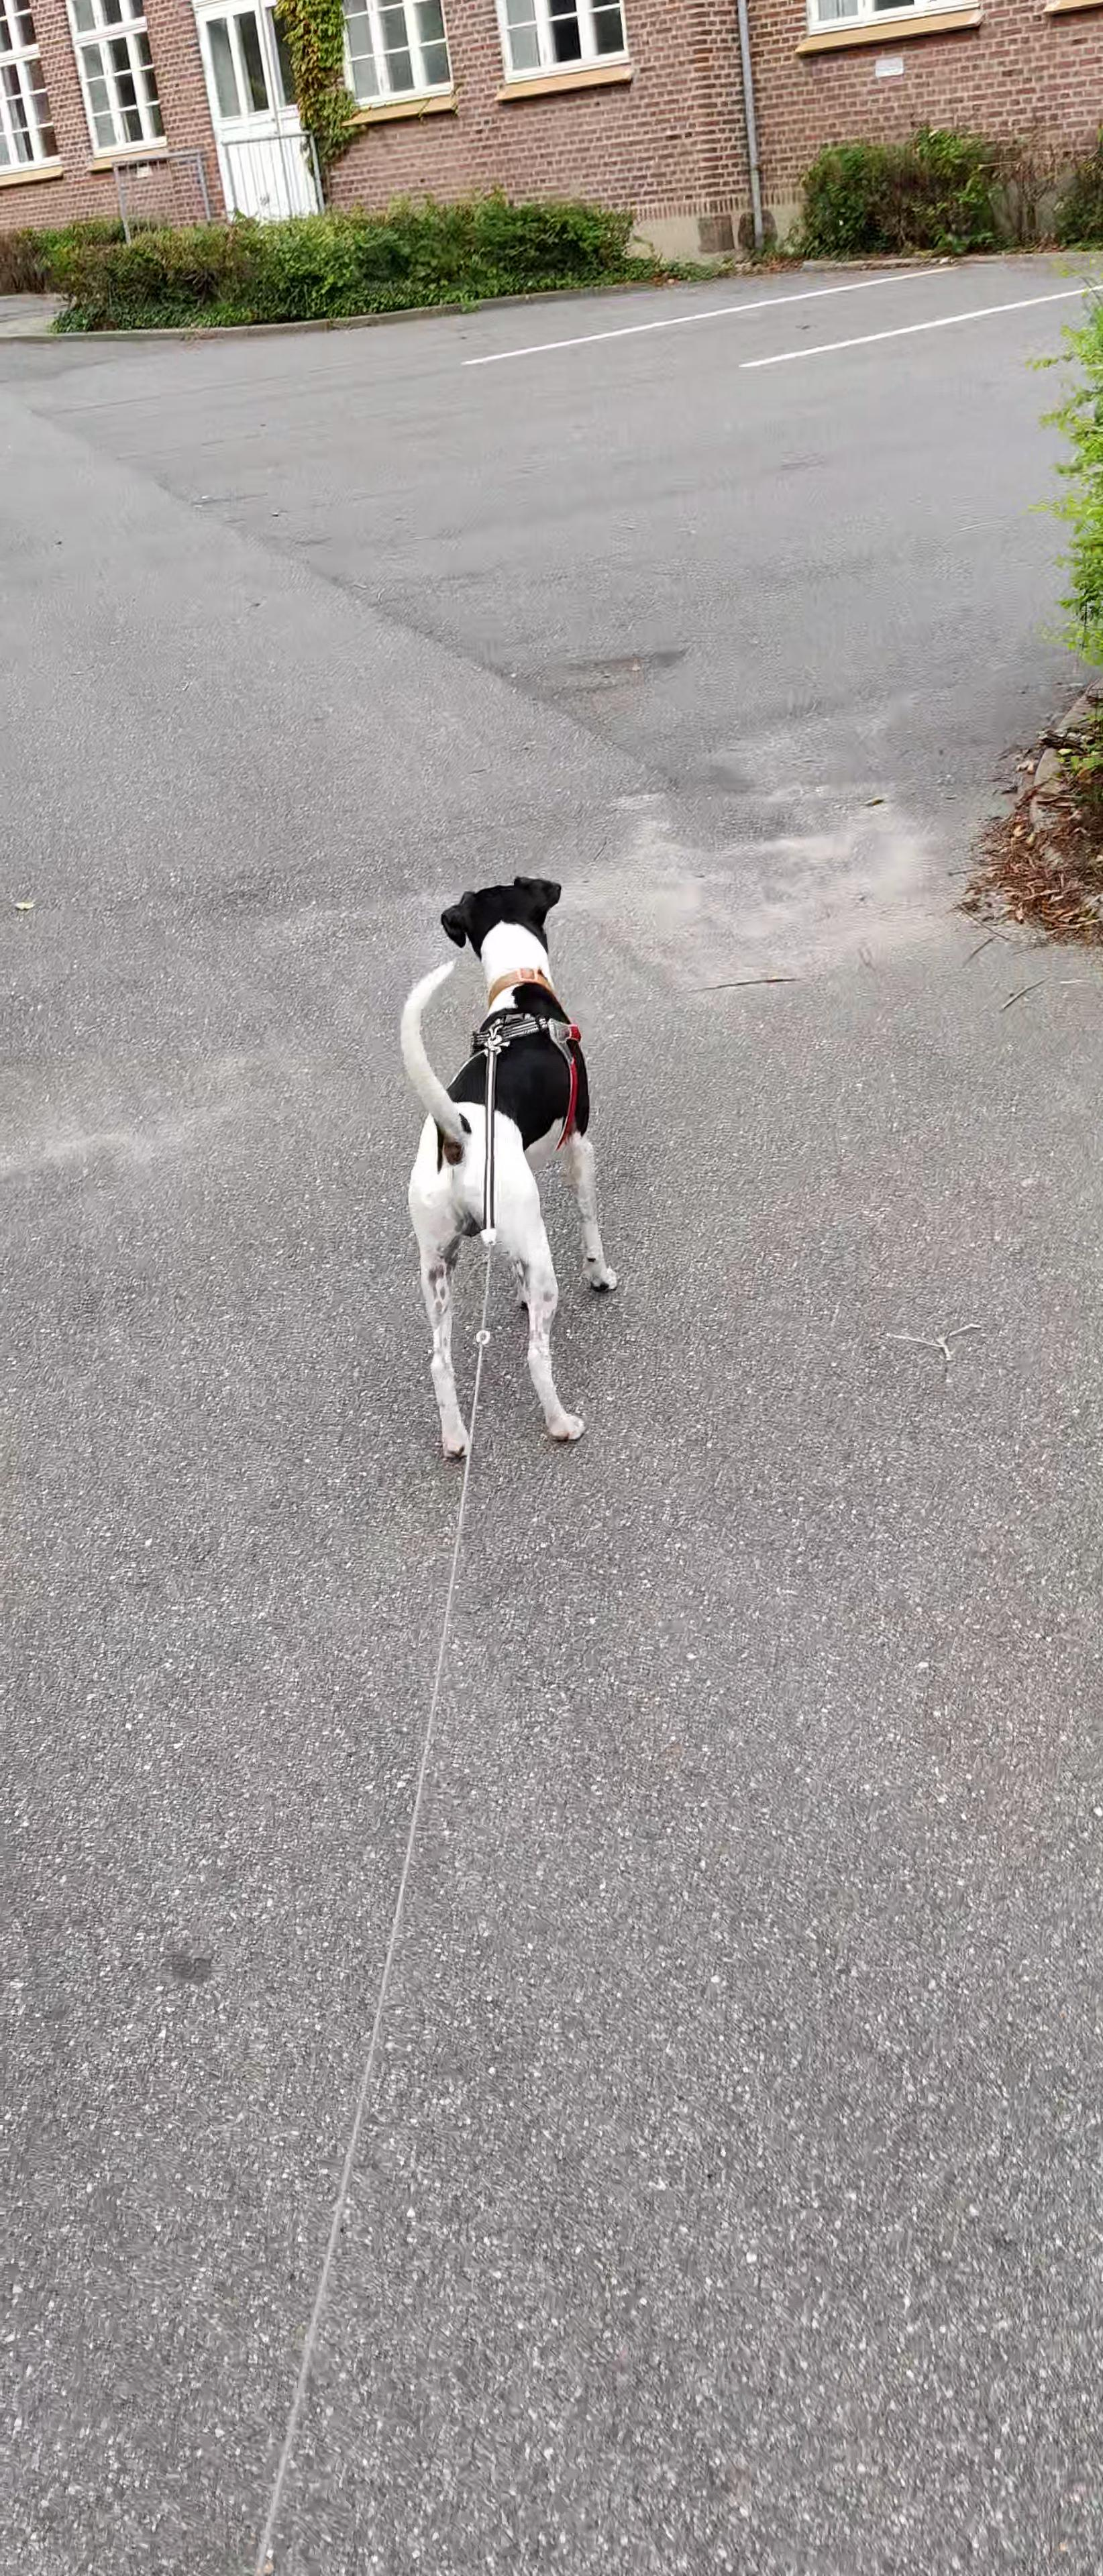Dog: (390, 871, 625, 1469)
